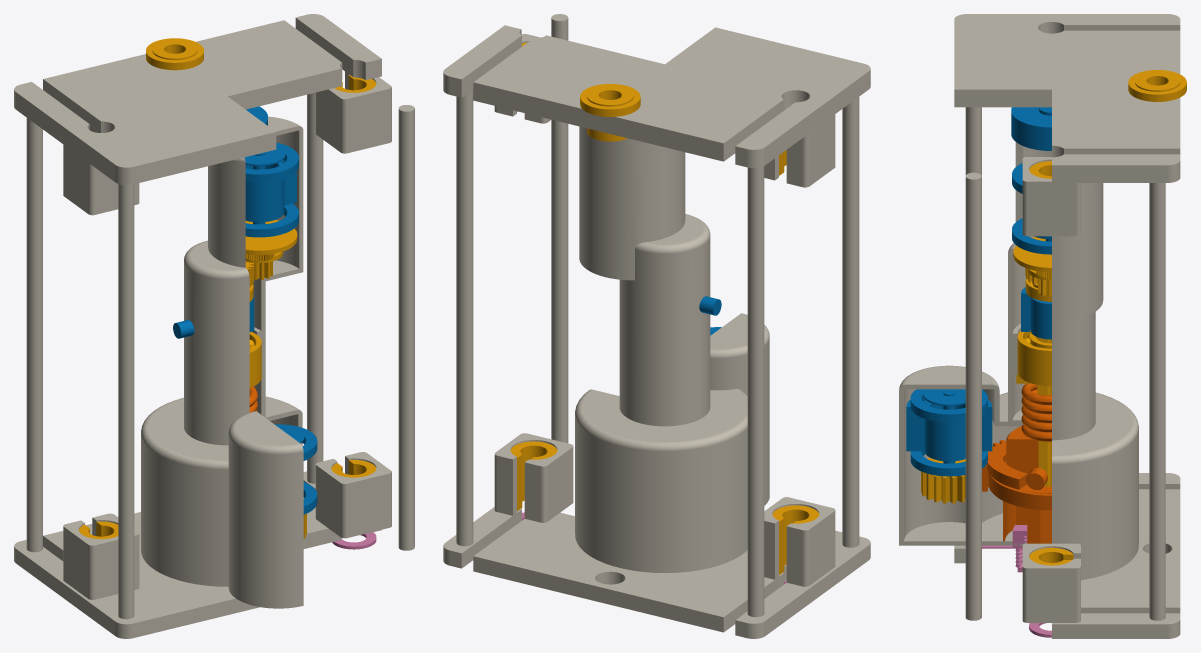
The model's file is drill_head_section.glb.
3 views of the same model, side by side, from view 1: azimuth 30°, elevation 25°; view 2: azimuth 150°, elevation 25°; view 3: azimuth 270°, elevation 25° (orthographic). The views are drawn at different scales.
Parts seen in each view (by area): view 1: Head_Housing_Ti, Carriage_Top_Yoke, Carriage_Base_Plate, Carriage_Tie_Rod_10, Carriage_Tie_Rod_00, Carriage_Tie_Rod_01, Carriage_Tie_Rod_11, Linear_Bearing_Block_R_Lower, Linear_Bearing_Block_R_Upper, Linear_Bearing_Block_L_Lower, Linear_Bearing_Block_L_Upper, Rotary_BLDC_End_Turns (+5 smaller); view 2: Head_Housing_Ti, Carriage_Top_Yoke, Carriage_Base_Plate, Carriage_Tie_Rod_11, Carriage_Tie_Rod_01, Carriage_Tie_Rod_00, Carriage_Tie_Rod_10, Linear_Bearing_Block_R_Lower, Linear_Bearing_Block_L_Lower, Linear_Bearing_Block_L_Upper, Leadscrew_Nut_Tr16x4_Bronze, LM16UU_OP_L_Lower (+1 smaller); view 3: Head_Housing_Ti, Carriage_Top_Yoke, Carriage_Base_Plate, Carriage_Tie_Rod_10, Carriage_Tie_Rod_11, Linear_Bearing_Block_R_Lower, Linear_Bearing_Block_R_Upper, Percussive_BLDC_End_Turns, Percussive_BLDC_PM_Rotor, WOB_Load_Cell_500N, Leadscrew_Nut_Tr16x4_Bronze, Hammer_Compression_Spring (+15 smaller).
Part boxes in pixels (bbox=[...]): Head_Housing_Ti: bbox=[141, 116, 303, 608]; Carriage_Top_Yoke: bbox=[14, 14, 381, 185]; Carriage_Base_Plate: bbox=[14, 471, 381, 638]; Carriage_Tie_Rod_10: bbox=[398, 105, 414, 550]; Carriage_Tie_Rod_00: bbox=[118, 184, 134, 619]; Carriage_Tie_Rod_01: bbox=[26, 118, 42, 552]; Carriage_Tie_Rod_11: bbox=[307, 92, 323, 483]; Linear_Bearing_Block_R_Lower: bbox=[315, 452, 391, 538]; Linear_Bearing_Block_R_Upper: bbox=[315, 71, 391, 153]; Linear_Bearing_Block_L_Lower: bbox=[63, 513, 139, 599]; Linear_Bearing_Block_L_Upper: bbox=[63, 144, 139, 215]; Rotary_BLDC_End_Turns: bbox=[245, 142, 298, 237]; Head_Housing_Ti: bbox=[575, 126, 769, 572]; Carriage_Top_Yoke: bbox=[443, 25, 870, 167]; Carriage_Base_Plate: bbox=[443, 507, 870, 638]; Carriage_Tie_Rod_11: bbox=[456, 89, 473, 546]; Carriage_Tie_Rod_01: bbox=[747, 166, 764, 617]; Carriage_Tie_Rod_00: bbox=[842, 97, 859, 547]; Carriage_Tie_Rod_10: bbox=[551, 14, 568, 443]; Linear_Bearing_Block_R_Lower: bbox=[494, 433, 573, 522]; Linear_Bearing_Block_L_Lower: bbox=[764, 497, 835, 586]; Linear_Bearing_Block_L_Upper: bbox=[764, 114, 835, 187]; Leadscrew_Nut_Tr16x4_Bronze: bbox=[580, 84, 640, 141]; LM16UU_OP_L_Lower: bbox=[772, 505, 819, 574]; Head_Housing_Ti: bbox=[899, 142, 1138, 580]; Carriage_Top_Yoke: bbox=[954, 14, 1180, 182]; Carriage_Base_Plate: bbox=[954, 473, 1180, 638]; Carriage_Tie_Rod_10: bbox=[965, 172, 981, 620]; Carriage_Tie_Rod_11: bbox=[1149, 183, 1165, 620]; Linear_Bearing_Block_R_Lower: bbox=[1022, 543, 1080, 622]; Linear_Bearing_Block_R_Upper: bbox=[1022, 157, 1080, 236]; Percussive_BLDC_End_Turns: bbox=[910, 389, 987, 476]; Percussive_BLDC_PM_Rotor: bbox=[925, 401, 965, 461]; WOB_Load_Cell_500N: bbox=[1011, 107, 1051, 150]; Leadscrew_Nut_Tr16x4_Bronze: bbox=[1128, 70, 1186, 101]; Hammer_Compression_Spring: bbox=[1021, 383, 1051, 447].
Size of the model in its own units: 0.22 by 0.3392 by 0.1769.
